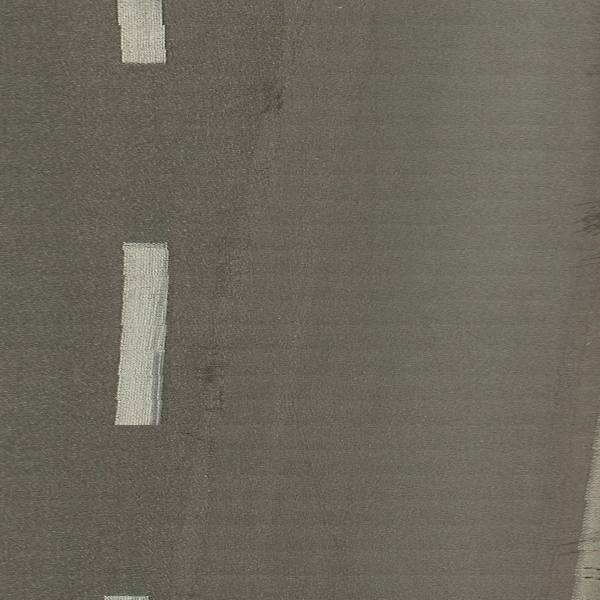road_damage: (244, 53, 294, 143)
